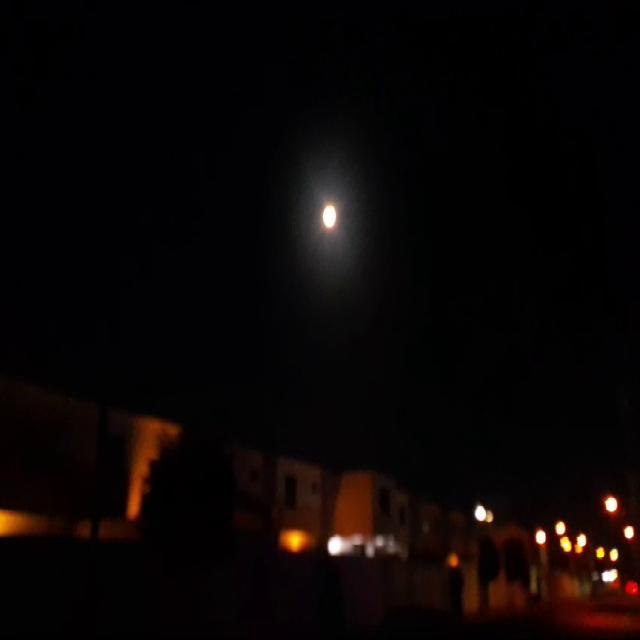moon: (316, 203, 339, 237)
